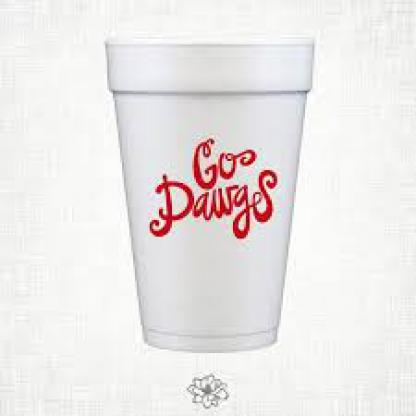paper: (102, 35, 310, 348)
